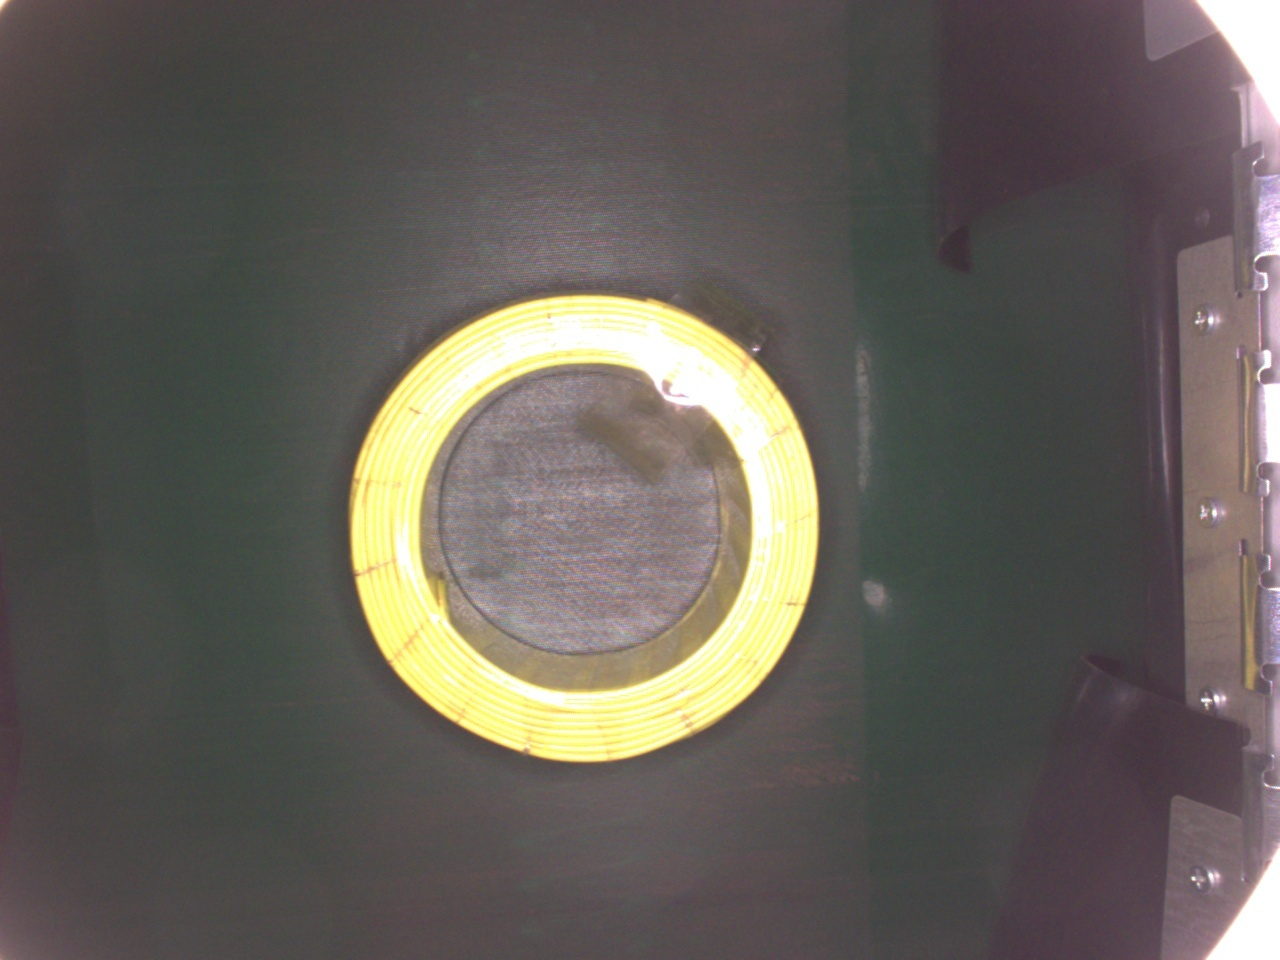yellow: (344, 288, 819, 764)
